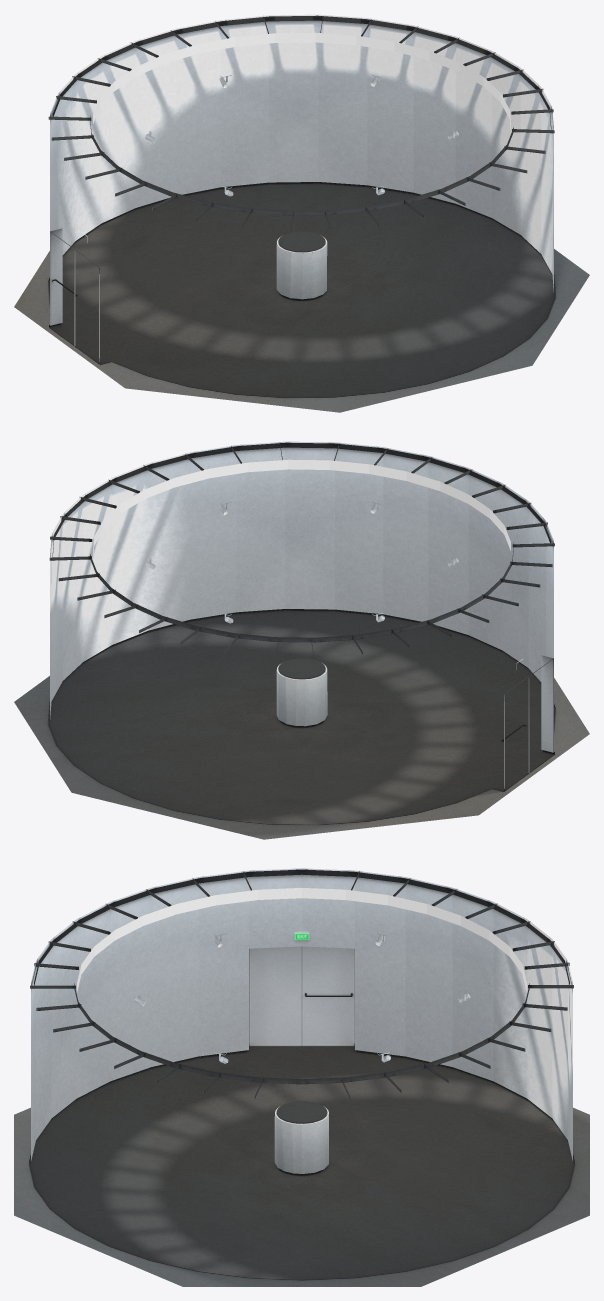
File: room.glb
The picture shows the model from 3 angles, top to bottom: view 1: azimuth 30°, elevation 25°; view 2: azimuth 150°, elevation 25°; view 3: azimuth 270°, elevation 25°; orthographic projection. The views are drawn at different scales.
Parts seen in each view (by area): view 1: RoomBaked_Baked_0; view 2: RoomBaked_Baked_0; view 3: RoomBaked_Baked_0.
Boxes of the visible parts, <box> form: RoomBaked_Baked_0: <box>14,14,589,412</box>; RoomBaked_Baked_0: <box>14,441,589,839</box>; RoomBaked_Baked_0: <box>14,868,589,1286</box>.
Bounding box in the file's own units: 328476 × 114757 × 328476.
Materials: 1 (1 with a texture image).
